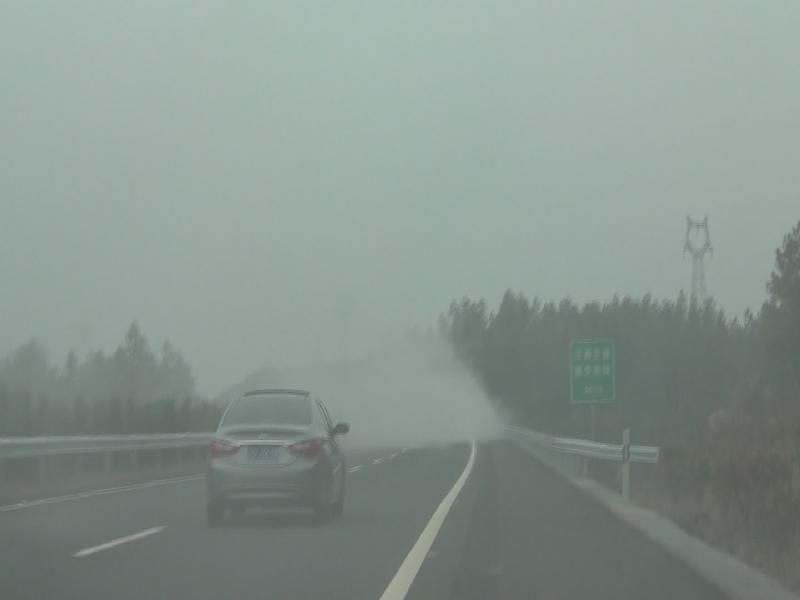car: (207, 389, 350, 525)
